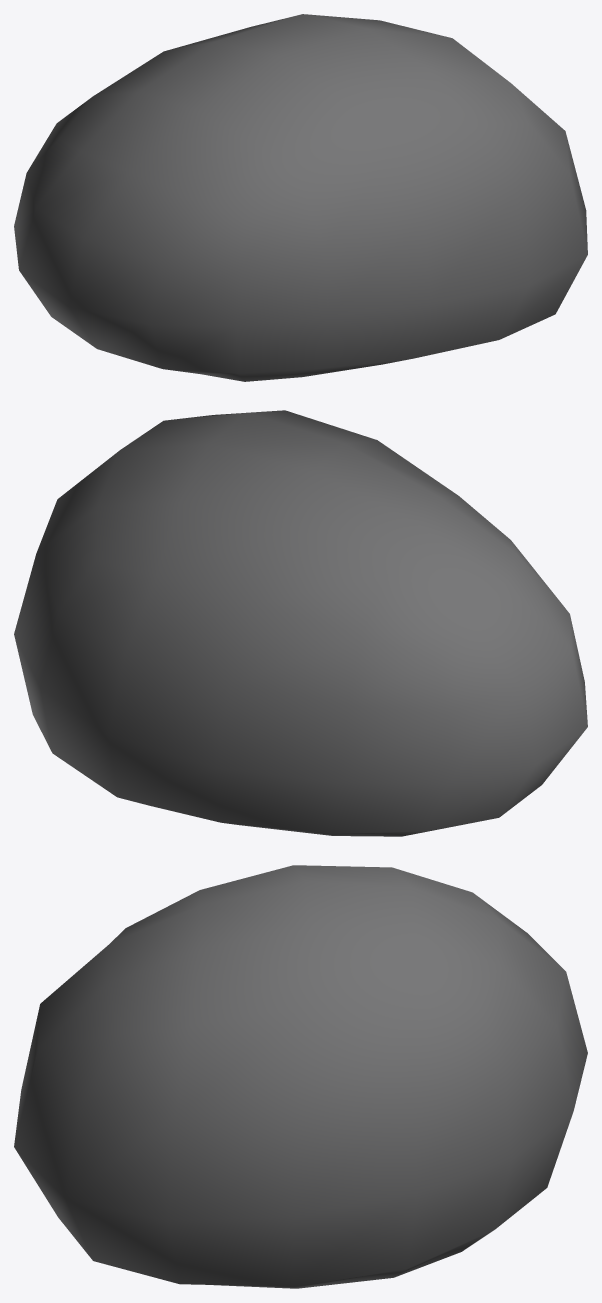
The model's file is Pebble_1a.gltf.
3 views of the same model, one above another, from view 1: azimuth 30°, elevation 25°; view 2: azimuth 150°, elevation 25°; view 3: azimuth 270°, elevation 25° (orthographic). The views are drawn at different scales.
Visible parts, largest first — view 1: Pebble_1a; view 2: Pebble_1a; view 3: Pebble_1a.
Boxes of the visible parts, left/top/right/bottom form: Pebble_1a: left=14, top=14, right=587, bottom=381; Pebble_1a: left=14, top=410, right=587, bottom=836; Pebble_1a: left=14, top=865, right=587, bottom=1288.
Bounding box in the file's own units: 43.37 × 24.17 × 38.6.
1 material, 1 textured.
